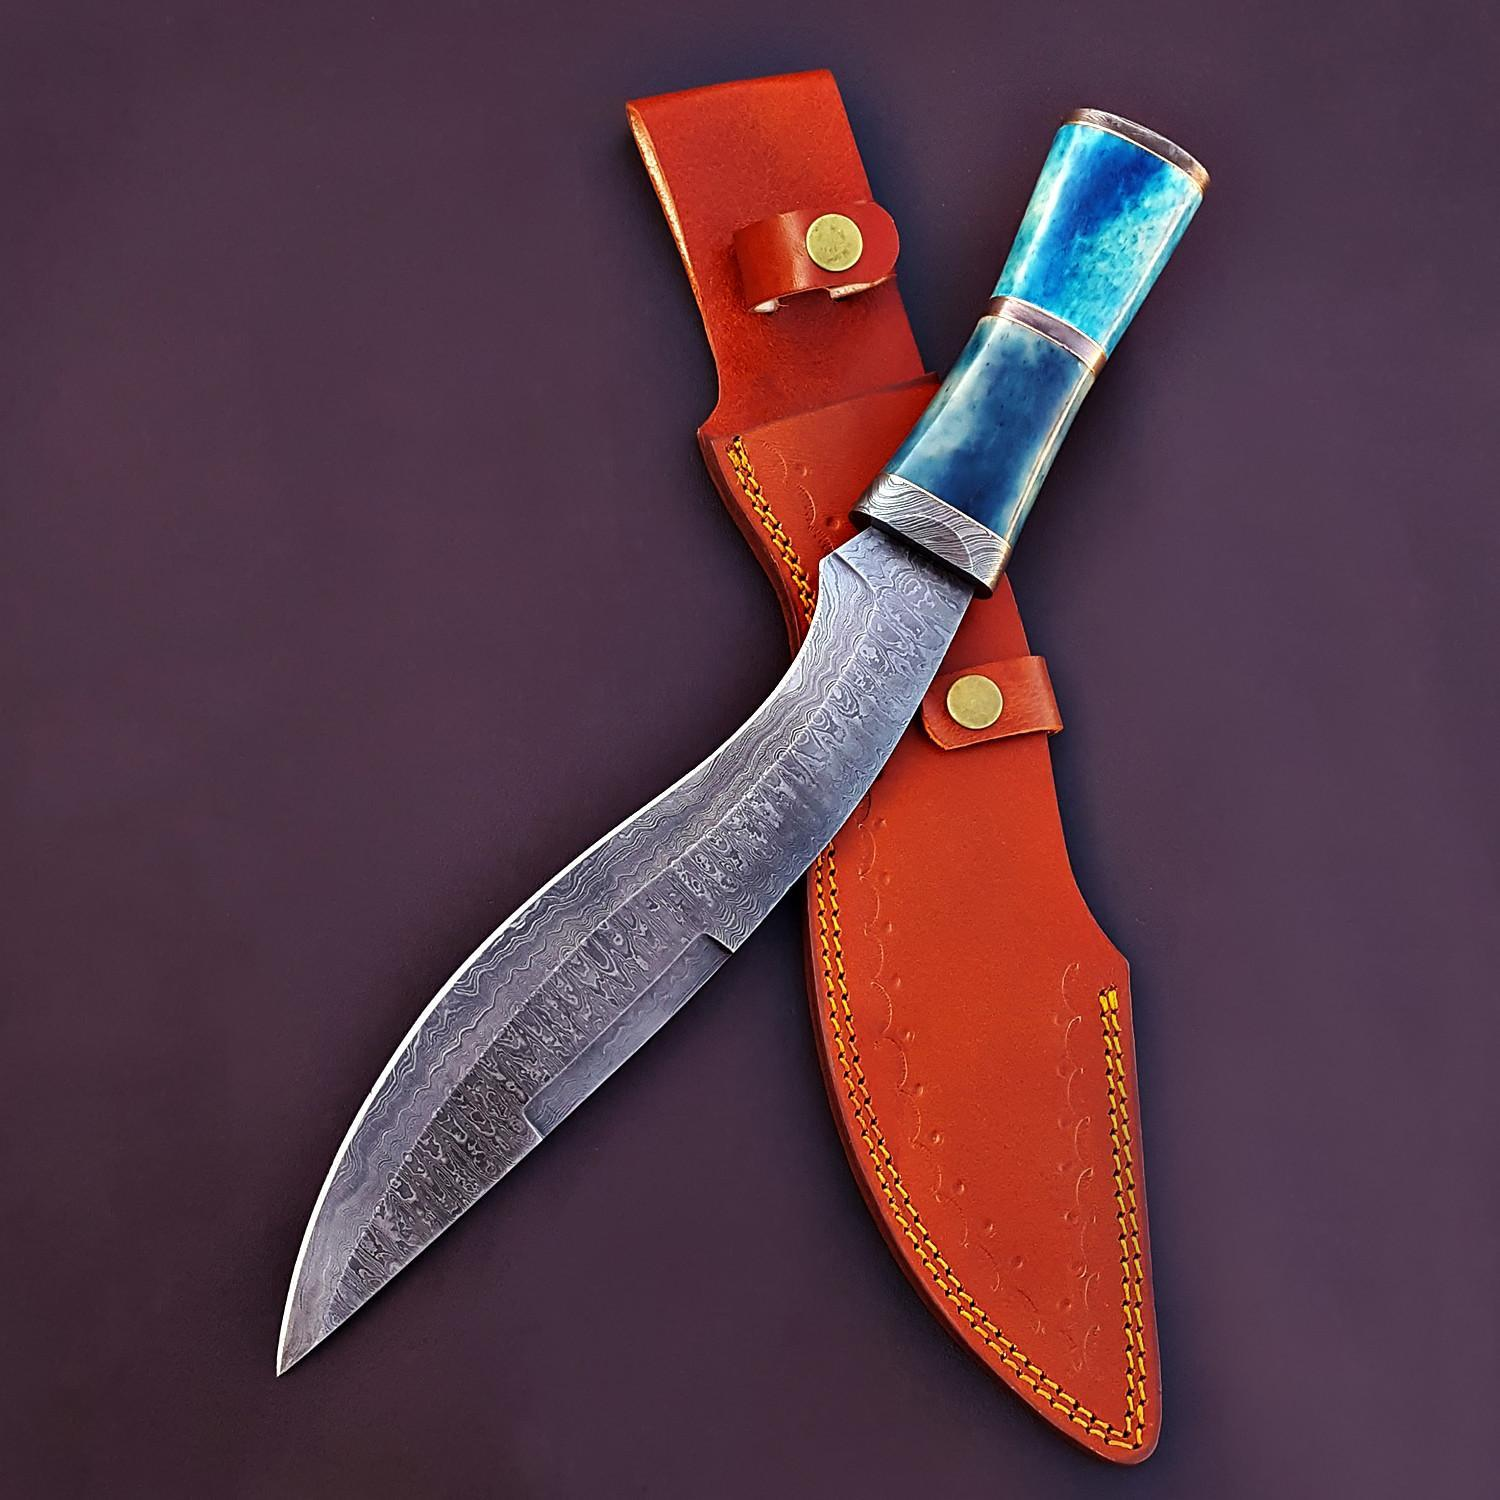facao: (287, 104, 1183, 1365)
